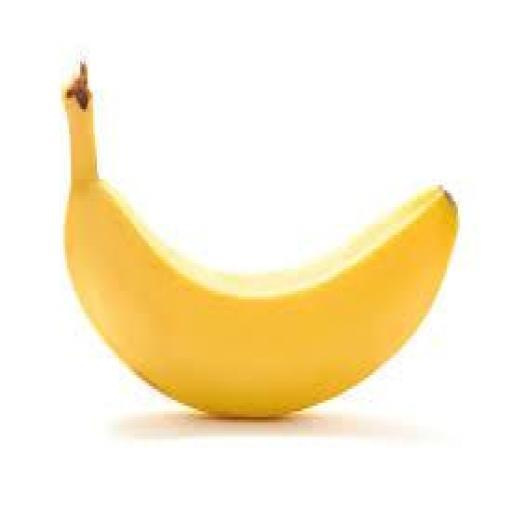banana: (66, 68, 458, 416)
